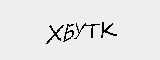Б: (62, 22, 77, 43)
К: (98, 19, 120, 38)
Т: (83, 19, 100, 39)
У: (73, 19, 85, 41)
Х: (45, 21, 64, 44)
